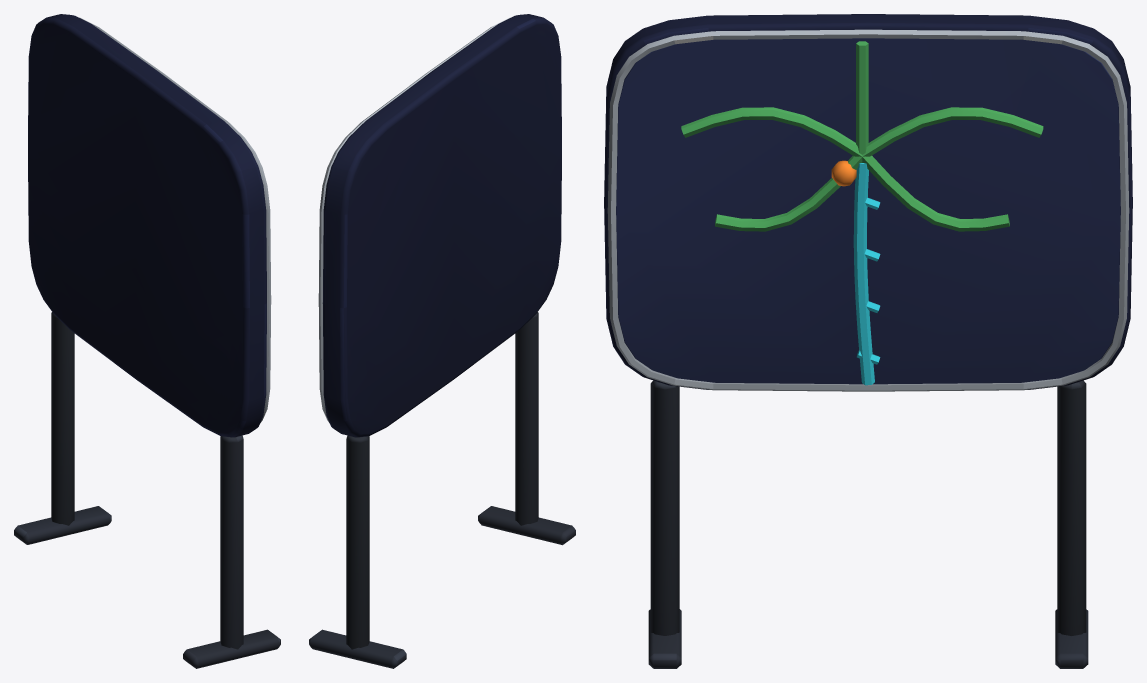
The model's file is SM_Set_NeonPalm.fbx.
3 views of the same model, side by side, from view 1: azimuth 30°, elevation 25°; view 2: azimuth 150°, elevation 25°; view 3: azimuth 270°, elevation 25° (orthographic). The views are drawn at different scales.
Parts seen in each view (by area): view 1: SM_Set_NeonPalm; view 2: SM_Set_NeonPalm; view 3: SM_Set_NeonPalm.
Boxes of the visible parts, box(x1,y1,x2,y2) form: SM_Set_NeonPalm: box(14, 14, 280, 668); SM_Set_NeonPalm: box(309, 14, 575, 668); SM_Set_NeonPalm: box(604, 14, 1132, 668).
Bounding box in the file's own units: 30.12 × 170 × 130.
